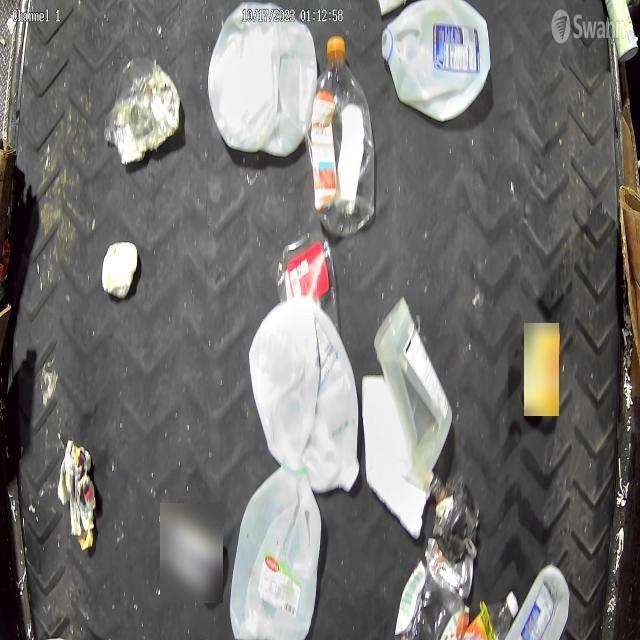milk_jug: (250, 300, 360, 488), (205, 6, 318, 158), (229, 466, 323, 639), (382, 0, 491, 124)
plastic_bottle: (308, 35, 376, 236)
